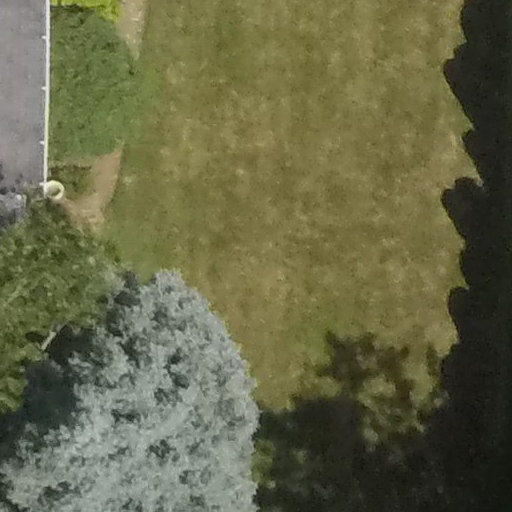container: (45, 177, 66, 205)
